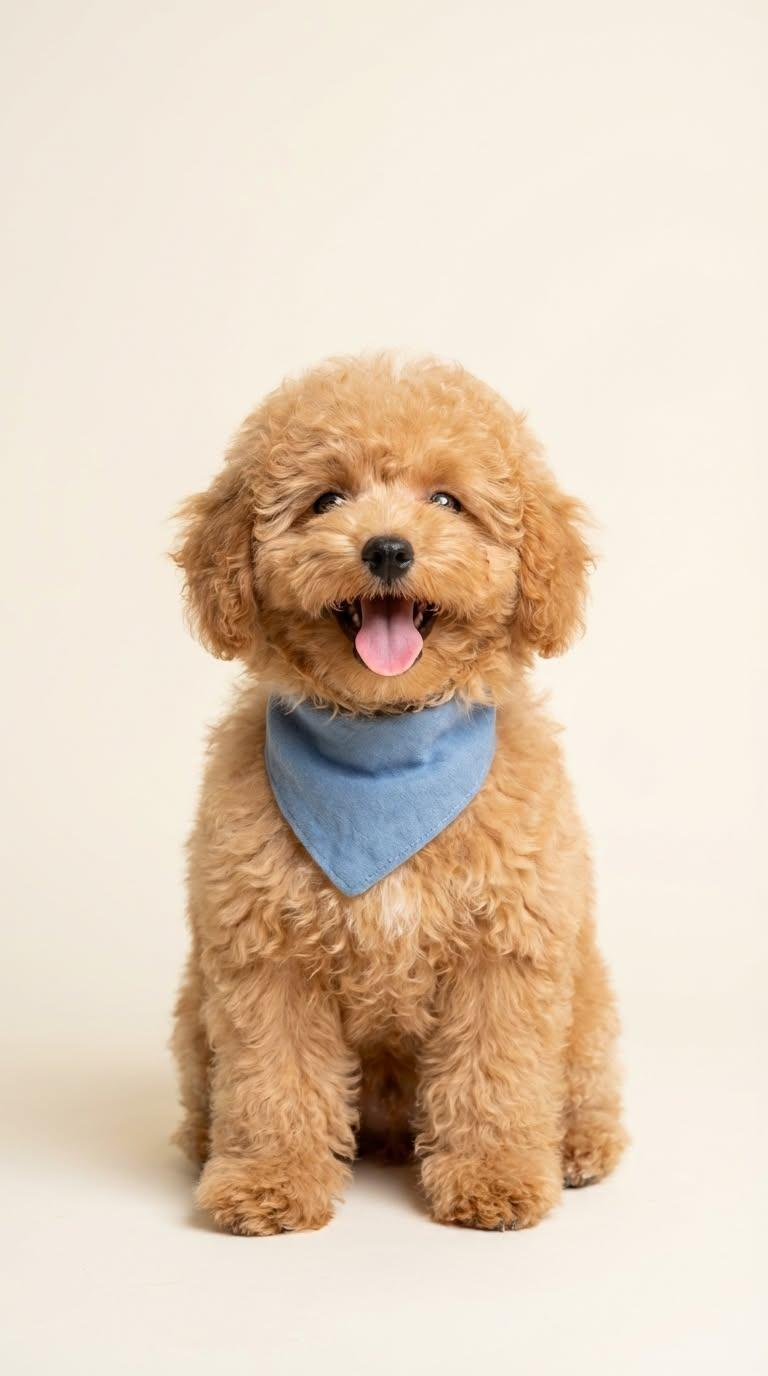puppy-dog: (164, 348, 631, 1240)
